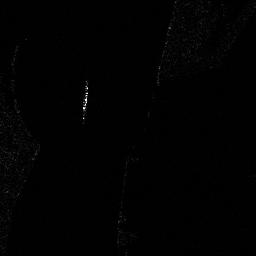ship: (82, 79, 90, 119)
